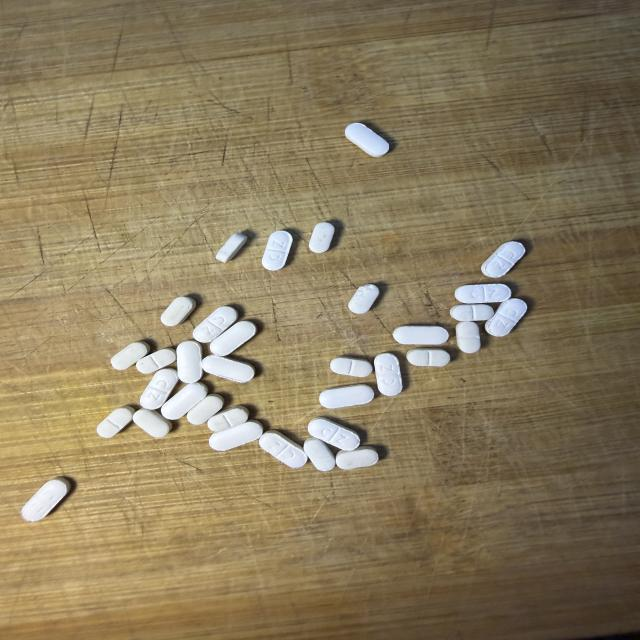pill: (136, 368, 178, 424), (22, 477, 71, 521), (259, 430, 307, 468), (161, 383, 208, 420), (192, 306, 238, 343), (308, 418, 360, 450), (209, 420, 262, 451), (210, 321, 256, 356), (481, 241, 525, 277), (485, 299, 527, 336), (345, 123, 389, 157), (202, 355, 254, 382), (319, 385, 373, 408), (374, 353, 402, 396), (97, 406, 135, 437), (262, 231, 292, 270), (186, 394, 224, 424), (111, 342, 150, 370), (136, 348, 177, 374), (133, 409, 171, 437), (455, 284, 511, 303), (304, 437, 335, 471), (177, 341, 202, 383), (208, 406, 249, 431), (393, 326, 449, 344), (161, 297, 195, 326), (336, 446, 378, 469), (348, 284, 379, 313), (216, 233, 247, 262), (330, 357, 372, 377), (309, 222, 334, 253), (456, 322, 480, 353), (407, 349, 450, 366), (450, 304, 493, 321)
